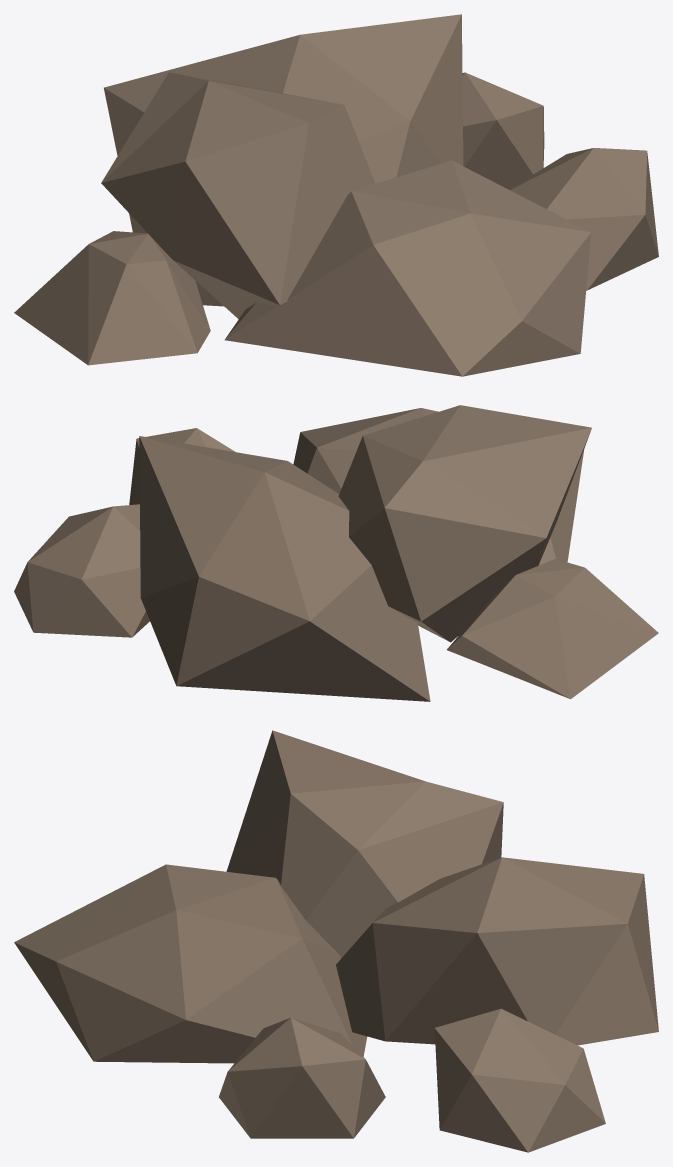
File: Rocks.fbx
3 views of the same model, one above another, from view 1: azimuth 30°, elevation 25°; view 2: azimuth 150°, elevation 25°; view 3: azimuth 270°, elevation 25° (orthographic). The views are drawn at different scales.
Parts seen in each view (by area): view 1: Icosphere, Icosphere.005, Icosphere.002, Icosphere.001, Icosphere.003, Icosphere.004; view 2: Icosphere.002, Icosphere.005, Icosphere.001, Icosphere.004, Icosphere, Icosphere.003; view 3: Icosphere, Icosphere.002, Icosphere.005, Icosphere.004, Icosphere.003.
Part boxes in pixels (<box>): Icosphere: <box>224,160,591,376</box>; Icosphere.005: <box>101,72,375,319</box>; Icosphere.002: <box>104,14,463,306</box>; Icosphere.001: <box>14,231,210,365</box>; Icosphere.003: <box>509,148,658,290</box>; Icosphere.004: <box>462,72,544,189</box>; Icosphere.002: <box>139,436,430,701</box>; Icosphere.005: <box>338,405,591,642</box>; Icosphere.001: <box>447,559,658,699</box>; Icosphere.004: <box>14,504,149,637</box>; Icosphere: <box>293,408,584,565</box>; Icosphere.003: <box>129,428,235,504</box>; Icosphere: <box>14,864,367,1063</box>; Icosphere.002: <box>336,857,658,1045</box>; Icosphere.005: <box>226,730,503,957</box>; Icosphere.004: <box>434,1008,605,1152</box>; Icosphere.003: <box>219,1017,385,1138</box>.
Bounding box in the file's own units: 293 × 114 × 295.
